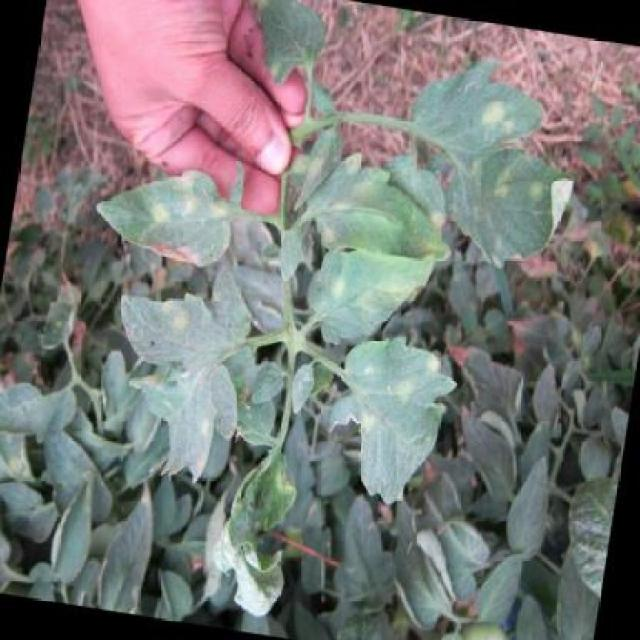Leaf Mold: (88, 260, 262, 497), (312, 325, 465, 513), (430, 134, 592, 292), (78, 143, 247, 294), (188, 442, 322, 628), (292, 127, 476, 261), (386, 46, 580, 172), (306, 234, 442, 360), (238, 0, 339, 97)
